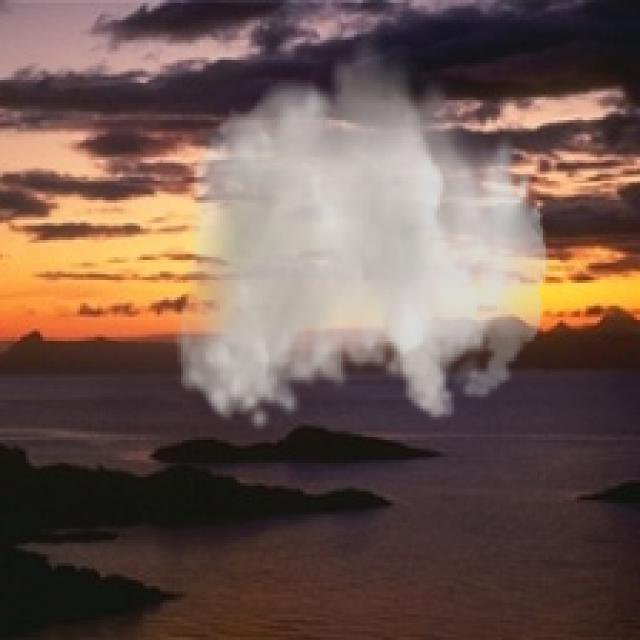smoke: (174, 29, 549, 432)
